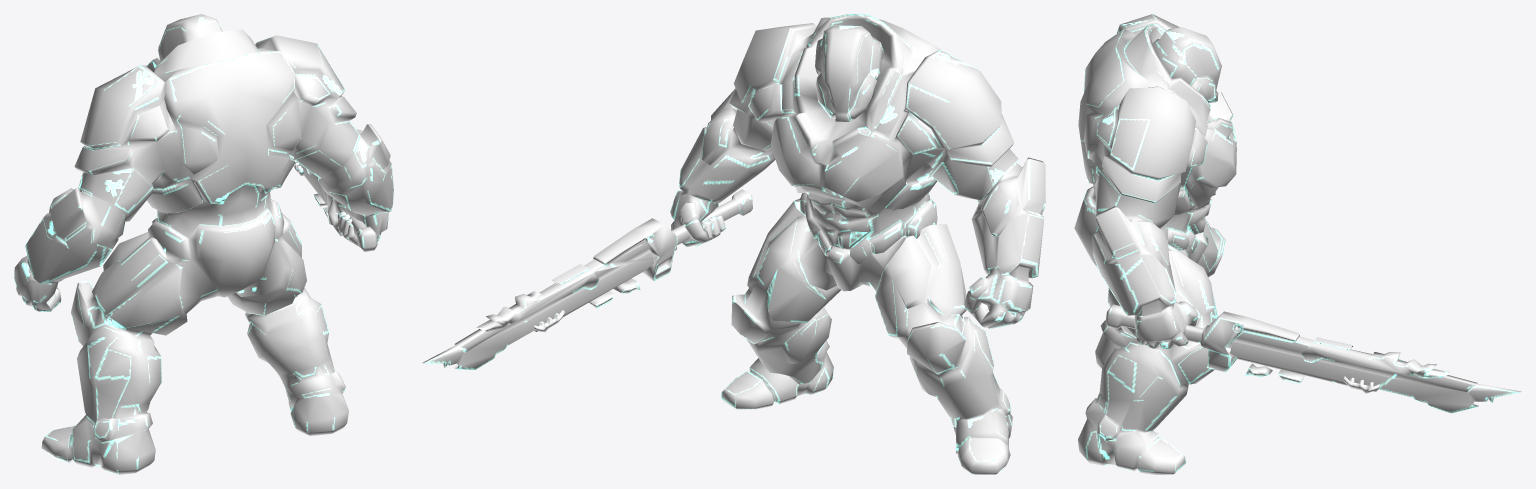
The model's file is legion_v3.glb.
The picture shows the model from 3 angles, left to right: view 1: azimuth 30°, elevation 25°; view 2: azimuth 150°, elevation 25°; view 3: azimuth 270°, elevation 25°; orthographic projection. The views are drawn at different scales.
Visible parts, largest first — view 1: legion_v3; view 2: legion_v3; view 3: legion_v3.
Boxes of the visible parts, x1,y1,x2,y2 form: legion_v3: [14, 14, 393, 474]; legion_v3: [422, 14, 1045, 474]; legion_v3: [1074, 14, 1521, 474].
Bounding box in the file's own units: 2.6 × 2.38 × 2.51.
Materials: 1 (1 with a texture image).
